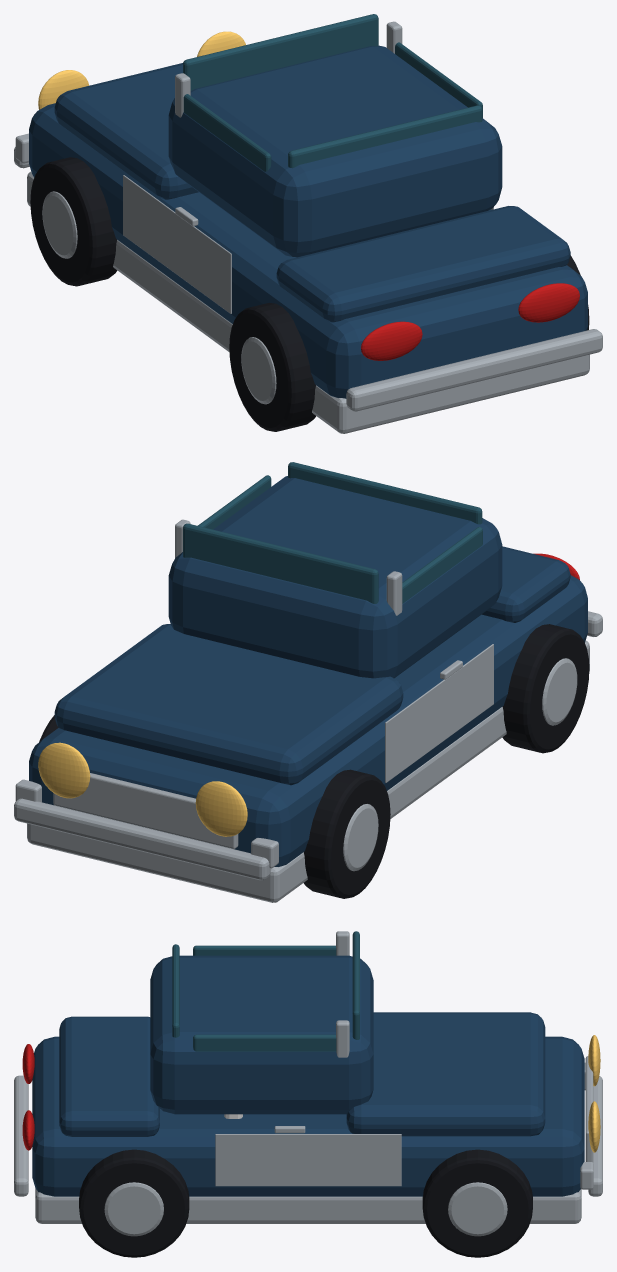
File: hero_1967_detail_prototype.fbx
The picture shows the model from 3 angles, top to bottom: view 1: azimuth 30°, elevation 25°; view 2: azimuth 150°, elevation 25°; view 3: azimuth 270°, elevation 25°; orthographic projection. The views are drawn at different scales.
Parts seen in each view (by area): view 1: Cabin, BodyLower, Trunk, Hood, Frame, Tire.001, Tire, DoorSeam, RearBumper, Windshield, RearGlass, SideGlass (+7 smaller); view 2: Cabin, Hood, BodyLower, Frame, Tire, Tire.001, DoorSeam, Windshield, FrontBumper, Grille, Trunk, RearGlass (+8 smaller); view 3: Cabin, BodyLower, Hood, Trunk, DoorSeam.001, Frame, Tire.003, Tire.002, SideGlass.001, AlloyHub.002, AlloyHub.003, RearBumper (+8 smaller).
Part boxes in pixels (left/top/right/bottom): Cabin: left=168, top=45, right=502, bottom=257; BodyLower: left=29, top=103, right=587, bottom=398; Trunk: left=276, top=206, right=570, bottom=322; Hood: left=54, top=63, right=198, bottom=199; Frame: left=27, top=171, right=589, bottom=433; Tire.001: left=30, top=157, right=117, bottom=286; Tire: left=229, top=303, right=315, bottom=431; DoorSeam: left=123, top=175, right=231, bottom=313; RearBumper: left=346, top=329, right=602, bottom=411; Windshield: left=183, top=14, right=378, bottom=90; RearGlass: left=288, top=105, right=482, bottom=168; SideGlass: left=183, top=94, right=271, bottom=171; Cabin: left=168, top=476, right=502, bottom=678; Hood: left=54, top=624, right=403, bottom=785; BodyLower: left=29, top=575, right=587, bottom=866; Frame: left=27, top=640, right=589, bottom=902; Tire: left=502, top=624, right=589, bottom=753; Tire.001: left=303, top=769, right=390, bottom=898; DoorSeam: left=385, top=644, right=493, bottom=782; Windshield: left=183, top=523, right=378, bottom=603; FrontBumper: left=14, top=798, right=270, bottom=880; Grille: left=53, top=773, right=238, bottom=848; Trunk: left=482, top=546, right=570, bottom=622; RearGlass: left=288, top=462, right=482, bottom=524; Cabin: left=150, top=955, right=373, bottom=1114; BodyLower: left=32, top=1036, right=584, bottom=1196; Hood: left=346, top=1012, right=545, bottom=1136; Trunk: left=59, top=1016, right=159, bottom=1136; DoorSeam.001: left=215, top=1134, right=401, bottom=1186; Frame: left=35, top=1188, right=581, bottom=1223; Tire.003: left=422, top=1149, right=532, bottom=1257; Tire.002: left=79, top=1149, right=189, bottom=1257; SideGlass.001: left=193, top=1034, right=336, bottom=1051; AlloyHub.002: left=104, top=1182, right=163, bottom=1236; AlloyHub.003: left=448, top=1182, right=507, bottom=1236; RearBumper: left=14, top=1075, right=28, bottom=1196.
Size of the model in its own units: 2.48 by 2.03 by 4.8.
